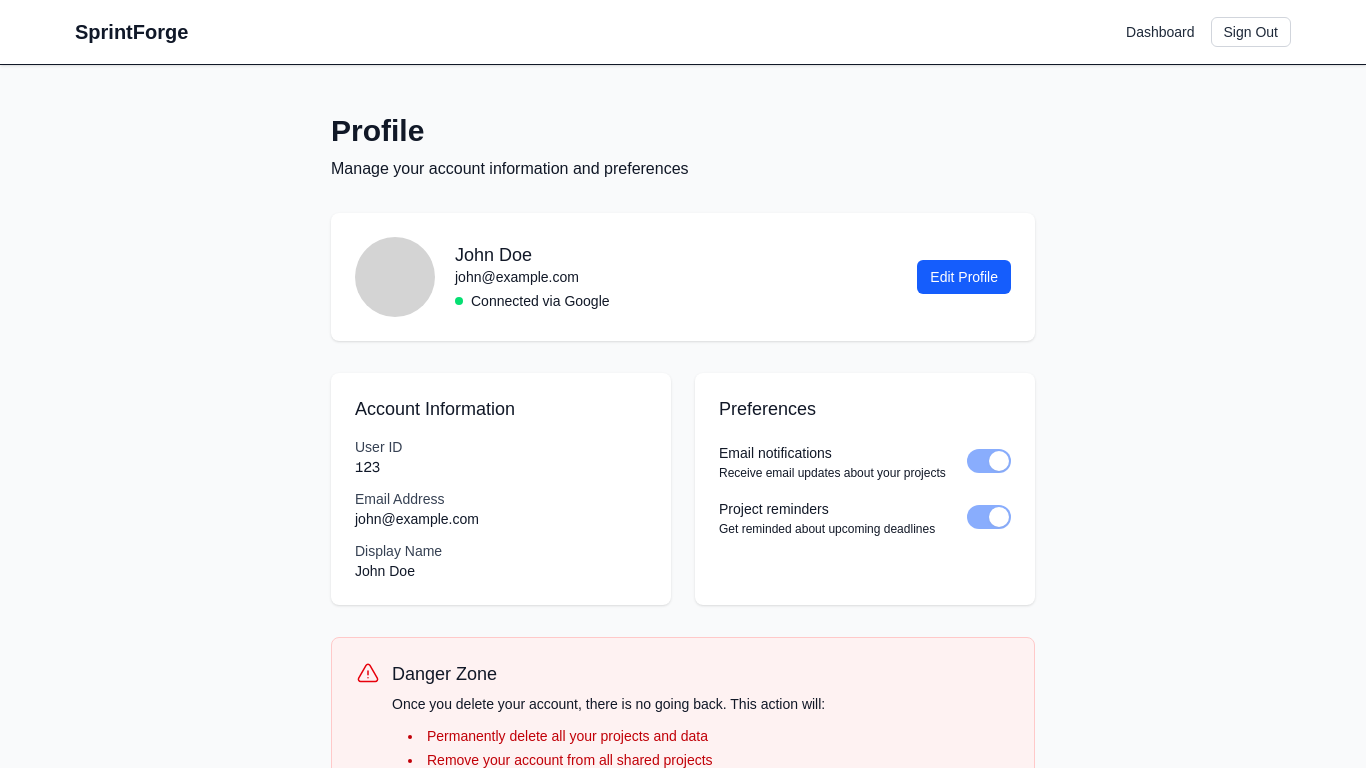
Test case: Profile Page › enters edit mode when edit button is clicked
Click the button "Edit Profile": (964, 277) [917, 260, 1011, 294]
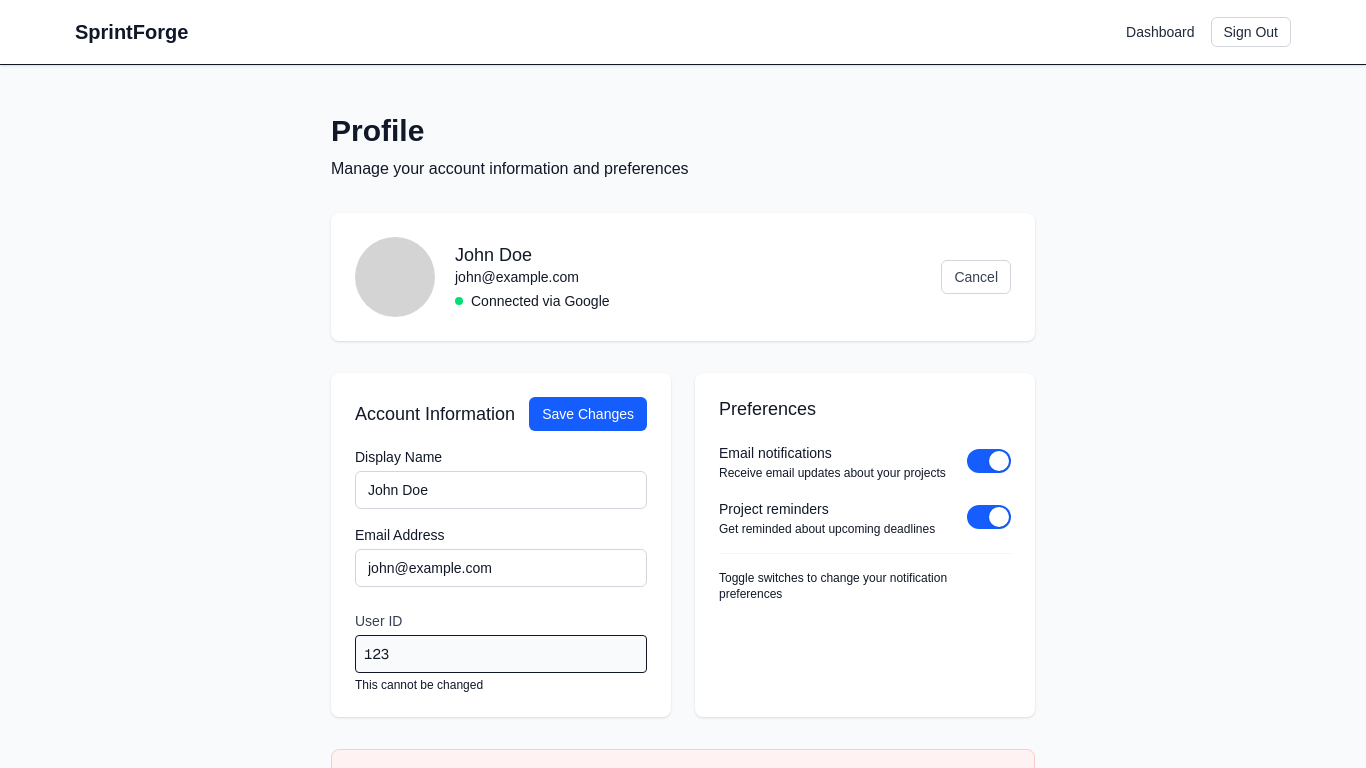
Check: the button "Cancel" is shown, box [941, 260, 1011, 294]
Check: the button "Save Changes" is shown, box [529, 397, 647, 431]
Check: the field showing "John Doe" is shown, box [355, 471, 647, 509]
